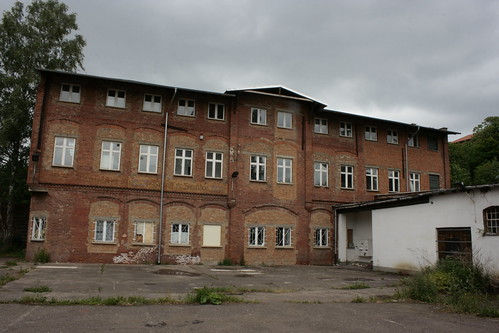building: (31, 78, 455, 261), (335, 184, 499, 275)
sky: (84, 1, 498, 110)
tree: (4, 3, 81, 158)
